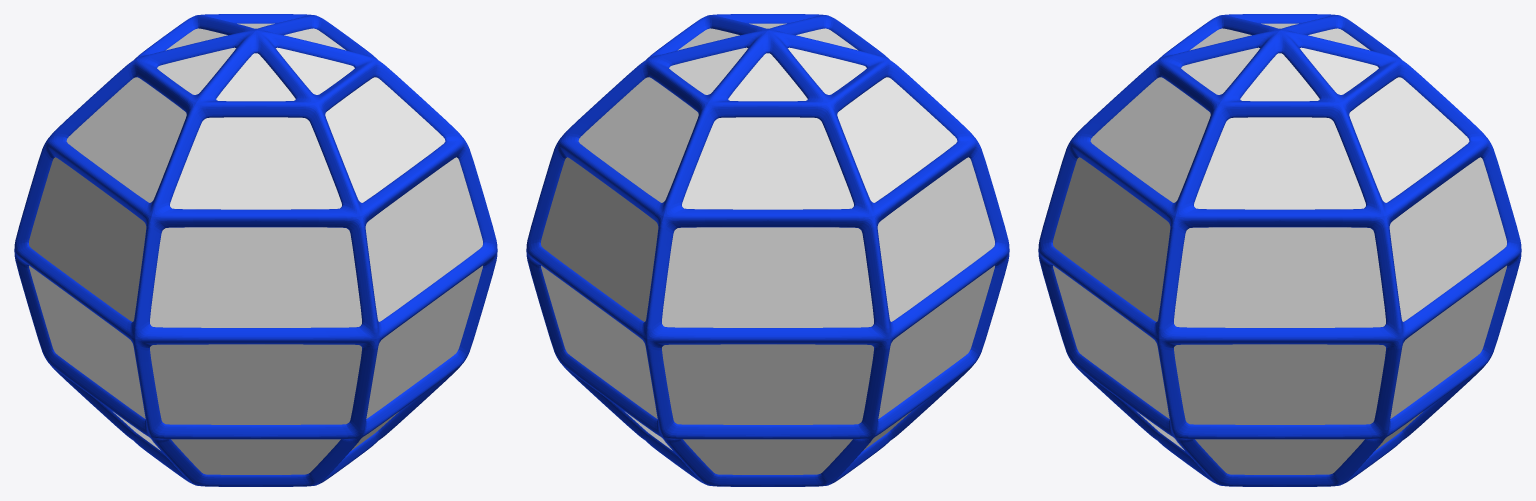
Rendered from Nfinite.glb.
The picture shows the model from 3 angles, left to right: view 1: azimuth 30°, elevation 25°; view 2: azimuth 150°, elevation 25°; view 3: azimuth 270°, elevation 25°; orthographic projection.
Parts seen in each view (by area): view 1: NfiniteHover, NfiniteWireframe; view 2: NfiniteHover, NfiniteWireframe; view 3: NfiniteHover, NfiniteWireframe.
Part boxes in pixels (x1,y1,x2,y2): NfiniteHover: (29,23,482,474); NfiniteWireframe: (14,14,497,486); NfiniteHover: (541,23,994,474); NfiniteWireframe: (526,14,1009,486); NfiniteHover: (1053,23,1506,474); NfiniteWireframe: (1038,14,1521,486).
Size of the model in its own units: 1.8 by 2.06 by 2.05.
